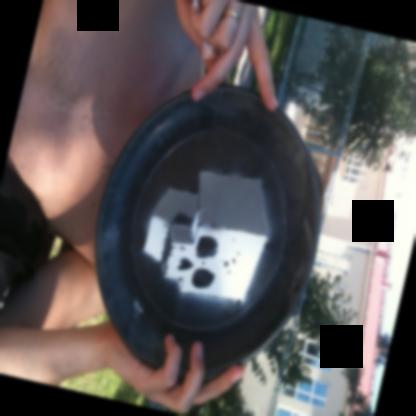backpack: (0, 168, 44, 309)
